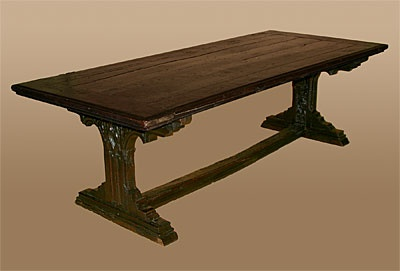obstacle: (11, 30, 387, 244)
